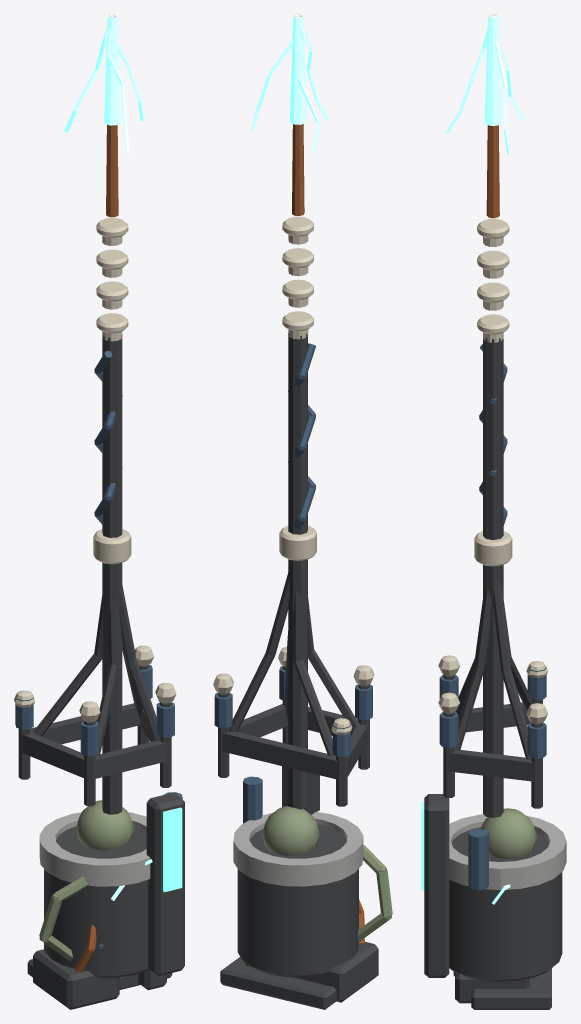
File: lightning-rod.glb
3 views of the same model, side by side, from view 1: azimuth 30°, elevation 25°; view 2: azimuth 150°, elevation 25°; view 3: azimuth 270°, elevation 25° (orthographic).
Parts seen in each view (by area): view 1: body, anim_lit_strike; view 2: body, anim_lit_strike; view 3: body, anim_lit_strike.
Boxes of the visible parts, x1,y1,x2,y2 form: body: (14,14,184,1009); anim_lit_strike: (64,14,152,900); body: (213,14,392,1009); anim_lit_strike: (251,14,329,812); body: (421,14,566,1009); anim_lit_strike: (445,14,524,904).
Bounding box in the file's own units: 1.15 × 7.3 × 0.99.
